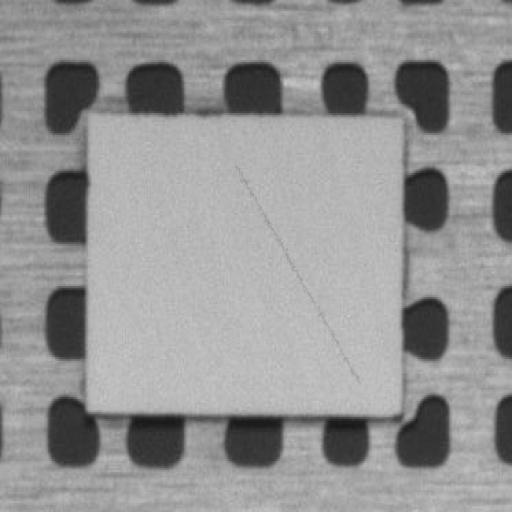DIE_CRACK: (312, 123, 476, 287)
